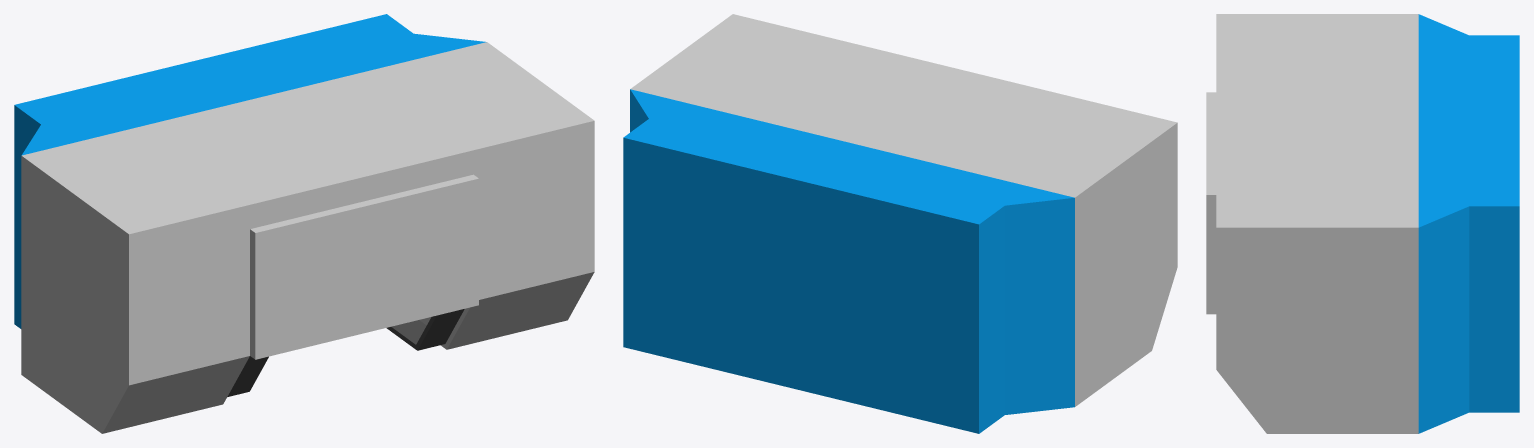
The model's file is cnc_vertical_machining_center_2_state_1.dae.
The picture shows the model from 3 angles, left to right: view 1: azimuth 30°, elevation 25°; view 2: azimuth 150°, elevation 25°; view 3: azimuth 270°, elevation 25°; orthographic projection. The views are drawn at different scales.
Parts seen in each view (by area): view 1: coords_ME_ID19_MA_material_8, coords_ME_ID3_MA_material_6, coords_ME_ID47_MA_material, coords_ME_ID41_MA_material; view 2: coords_ME_ID3_MA_material_6, coords_ME_ID19_MA_material_8; view 3: coords_ME_ID19_MA_material_8, coords_ME_ID3_MA_material_6.
Boxes of the visible parts, x1,y1,x2,y2 form: coords_ME_ID19_MA_material_8: [21, 42, 594, 433]; coords_ME_ID3_MA_material_6: [14, 14, 486, 328]; coords_ME_ID47_MA_material: [386, 309, 464, 350]; coords_ME_ID41_MA_material: [227, 356, 268, 396]; coords_ME_ID3_MA_material_6: [623, 89, 1074, 433]; coords_ME_ID19_MA_material_8: [630, 14, 1177, 406]; coords_ME_ID19_MA_material_8: [1206, 14, 1418, 433]; coords_ME_ID3_MA_material_6: [1418, 14, 1519, 433].
Size of the model in its own units: 43.31 by 19.92 by 26.85.
